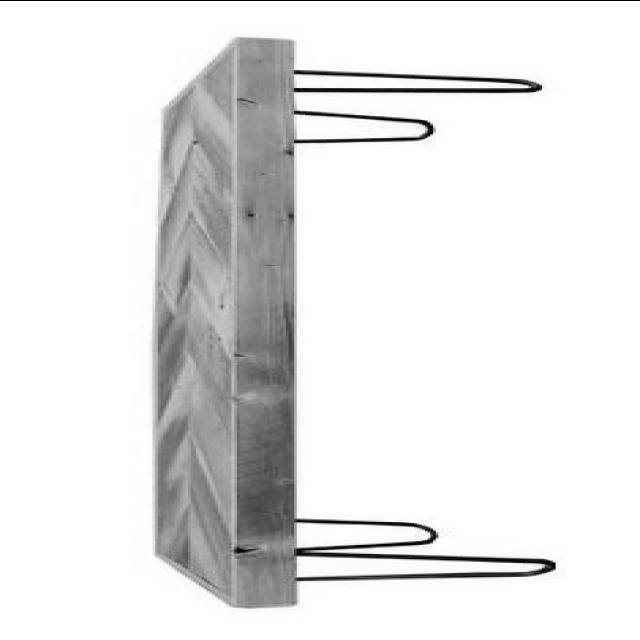table: (149, 37, 550, 607)
